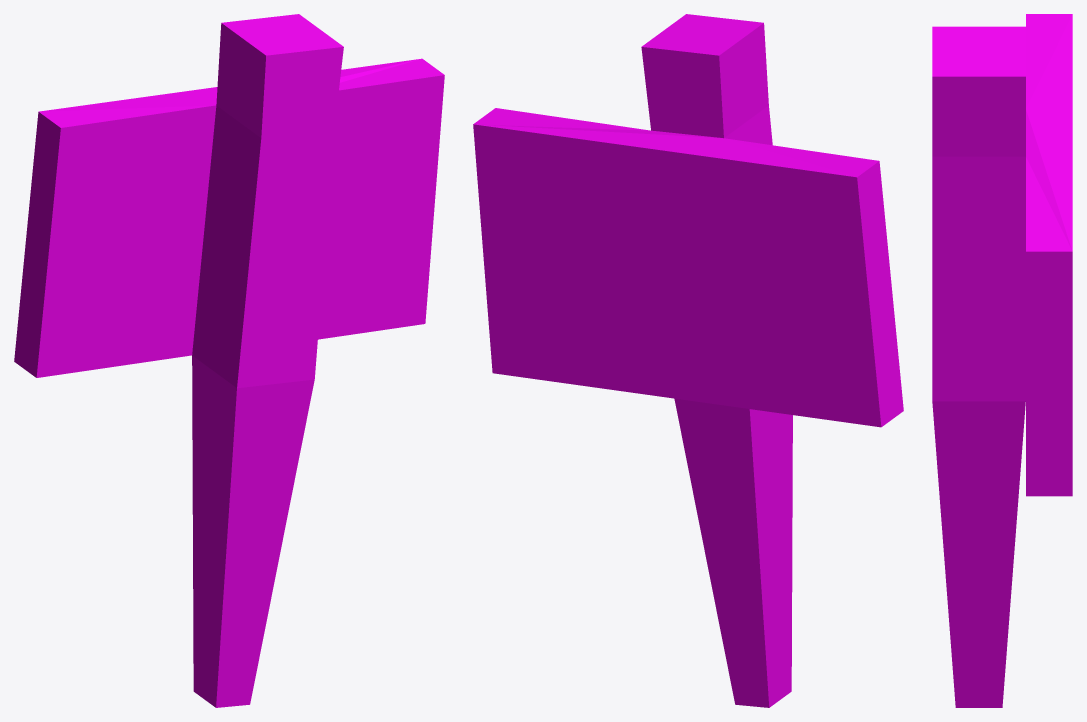
File: signpost2.obj
3 views of the same model, side by side, from view 1: azimuth 30°, elevation 25°; view 2: azimuth 150°, elevation 25°; view 3: azimuth 270°, elevation 25° (orthographic). The views are drawn at different scales.
Visible parts, largest first — view 1: signpost2_back; view 2: signpost2_back; view 3: signpost2_back.
Part boxes in pixels (x1,y1,x2,y2): signpost2_back: [14, 14, 444, 707]; signpost2_back: [473, 14, 903, 707]; signpost2_back: [932, 14, 1072, 707].
Bounding box in the file's own units: 0.84 × 1.29 × 0.24.
